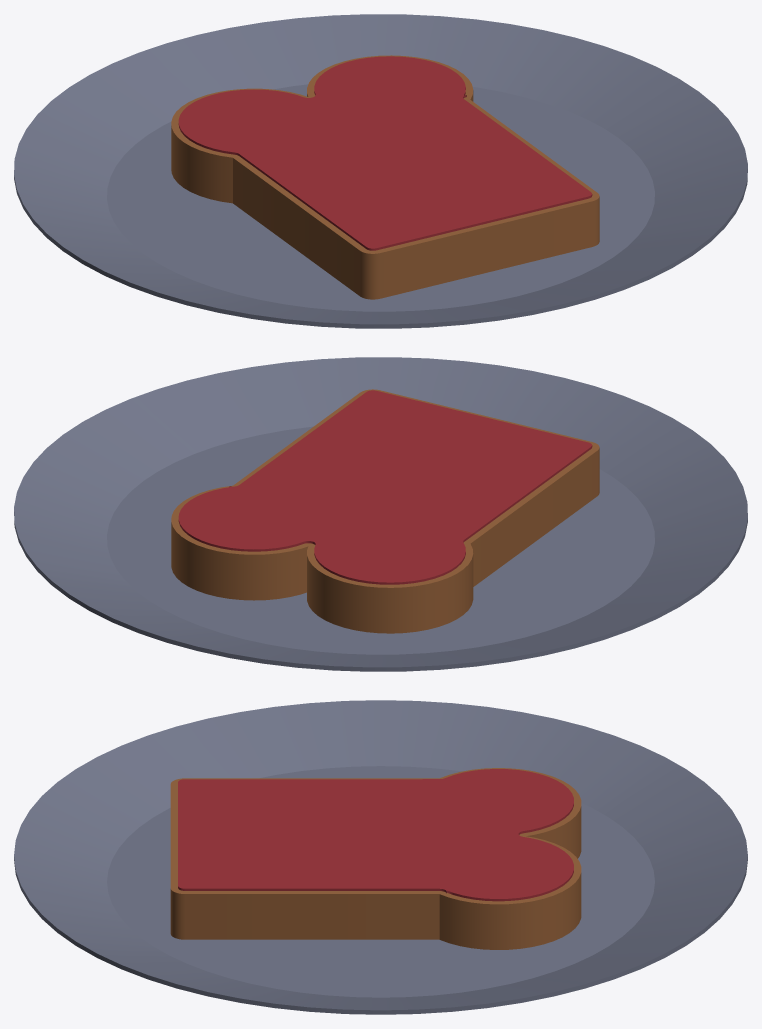
3 renders of one model, top to bottom at view 1: azimuth 30°, elevation 25°; view 2: azimuth 150°, elevation 25°; view 3: azimuth 270°, elevation 25°, orthographic.
Parts seen in each view (by area): view 1: plate, red_top, crust; view 2: plate, red_top, crust; view 3: plate, red_top, crust.
Part boxes in pixels (<box>): plate: <box>14,14,747,328</box>; red_top: <box>178,56,592,250</box>; crust: <box>171,55,599,299</box>; plate: <box>14,357,747,671</box>; red_top: <box>178,390,592,584</box>; crust: <box>171,389,599,633</box>; plate: <box>14,700,747,1014</box>; red_top: <box>178,769,573,901</box>; crust: <box>170,768,581,949</box>.
Bounding box in the file's own units: 0.15 × 0.0128 × 0.15.
